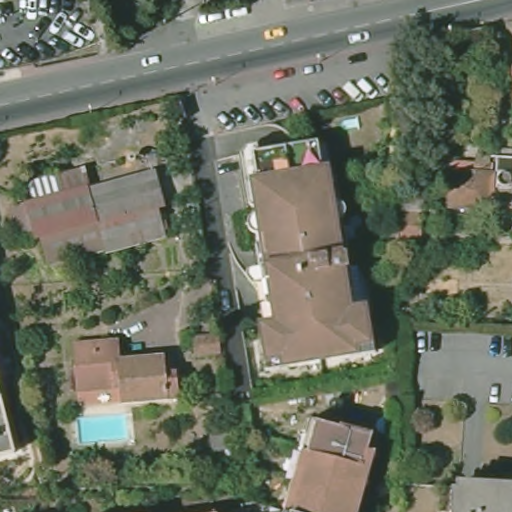pool: (69, 408, 139, 447)
